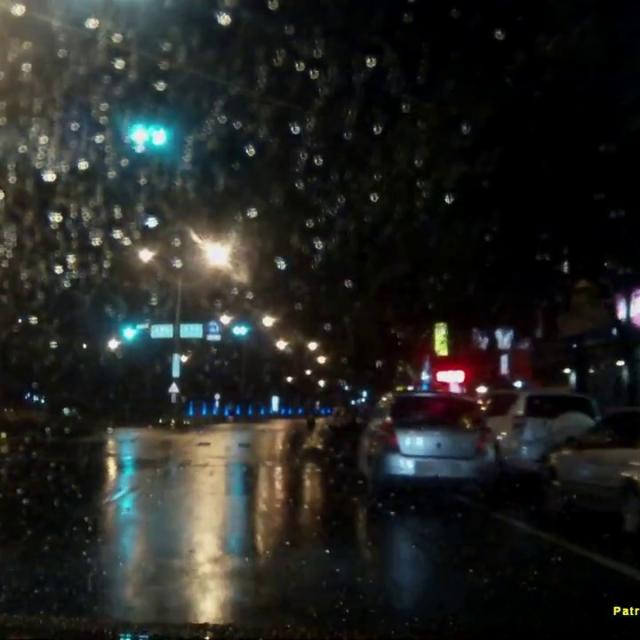Car: (352, 389, 498, 491), (472, 383, 604, 483), (541, 399, 639, 533)
